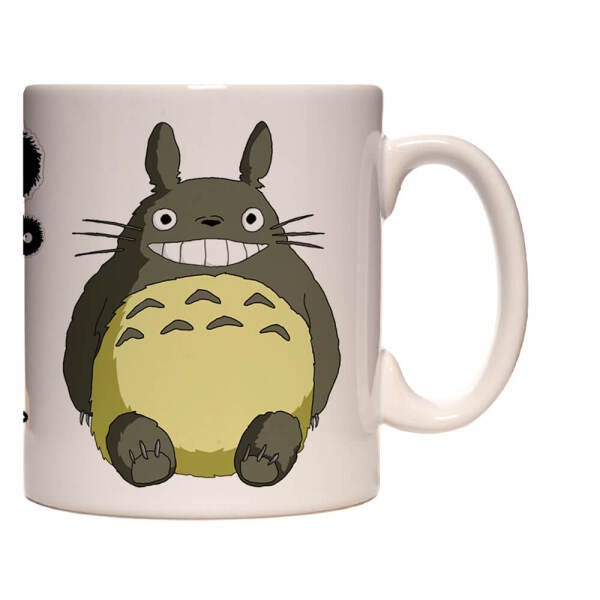Totoro: (62, 120, 350, 493)
